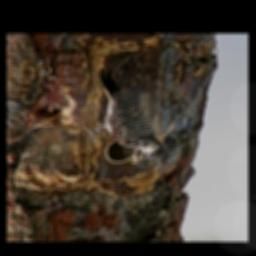Woodpecker: (83, 69, 166, 163)
